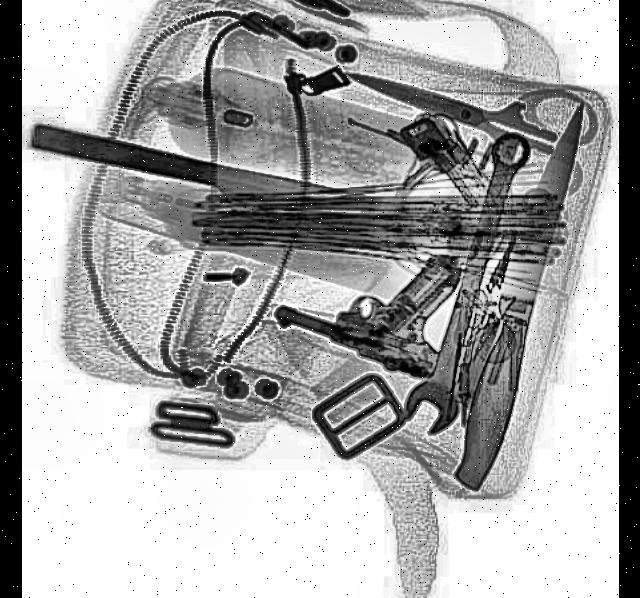Gun: (269, 199, 467, 387)
Knife: (443, 95, 599, 495), (24, 115, 442, 257), (338, 42, 560, 171)
Wrench: (396, 121, 536, 443)
